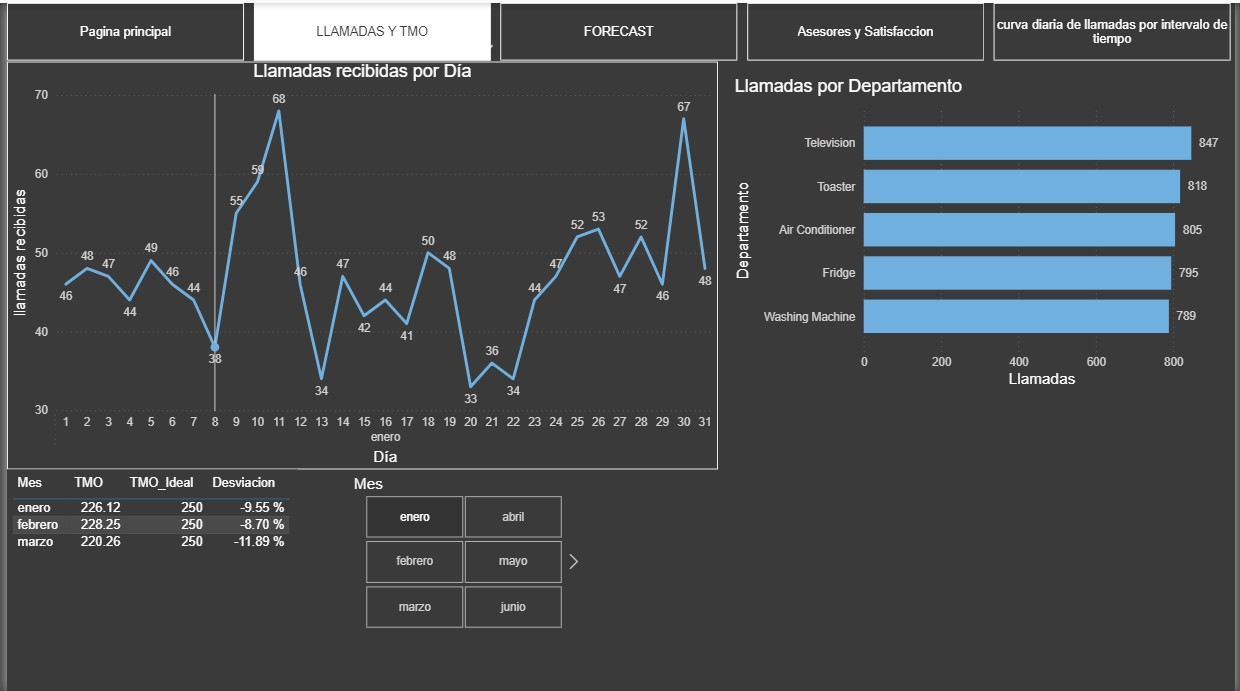

This screenshot's page, from the dashboard's own definition file:
{"tool":"powerbi","page":{"name":"LLAMADAS, FORECAST Y TMO","canvas":[1280,720],"ordinal":1},"visuals":[{"type":"slicer","fields":{"Values":["Data.fecha_Llamada.Variación.Jerarquía de fechas.Mes"]},"box":[290.7,537.7,253.2,171.9],"z":1000},{"type":"clusteredColumnChart","title":"Llamadas recibidas por Día","fields":{"Category":["Data.fecha_Llamada.Variación.Jerarquía de fechas.Día"],"Y":["Indicadores.llamadas recibidas"]},"box":[0,61,639.3,379.8],"z":2000},{"type":"tableEx","fields":{"Values":["Data.fecha_Llamada.Variación.Jerarquía de fechas.Mes","Indicadores.TMO","Indicadores.TMO_Ideal","Indicadores.Desviacion"]},"box":[0,504.8,254.8,156.3],"z":3000},{"type":"clusteredBarChart","title":"Llamadas por Departamento","fields":{"Category":["Data.Department"],"Y":["Indicadores.llamadas recibidas"]},"box":[659.6,76.6,526.7,328.2],"z":4000},{"type":"pageNavigator","box":[0,0,1279.4,60.5],"z":5000},{"type":"clusteredColumnChart","title":"Llamadas recibidas por Día","fields":{"Category":["Data.fecha_Llamada.Variación.Jerarquía de fechas.Día"]},"box":[659.6,404.8,511.1,284.5],"z":5001}]}

Visuals, with their boxes in screenshot pixels (x1, y1, x2, y2), scaled from the page's 1280x720 canvas onto the 1240x691 screenshot:
slicer - Data.fecha_Llamada.Variación.Jerarquía de fechas.Mes: bbox(282, 516, 527, 681)
"Llamadas recibidas por Día" clusteredColumnChart: bbox(0, 59, 619, 423)
tableEx - Data.fecha_Llamada.Variación.Jerarquía de fechas.Mes x Indicadores.TMO: bbox(0, 484, 247, 634)
"Llamadas por Departamento" clusteredBarChart: bbox(639, 74, 1149, 388)
pageNavigator: bbox(0, 0, 1239, 58)
"Llamadas recibidas por Día" clusteredColumnChart: bbox(639, 388, 1134, 662)
